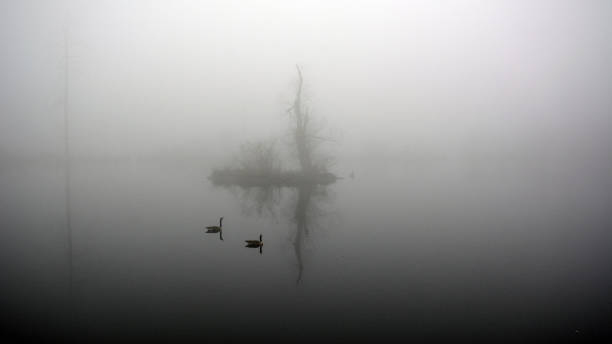goose: (203, 216, 224, 233), (244, 233, 264, 247)
